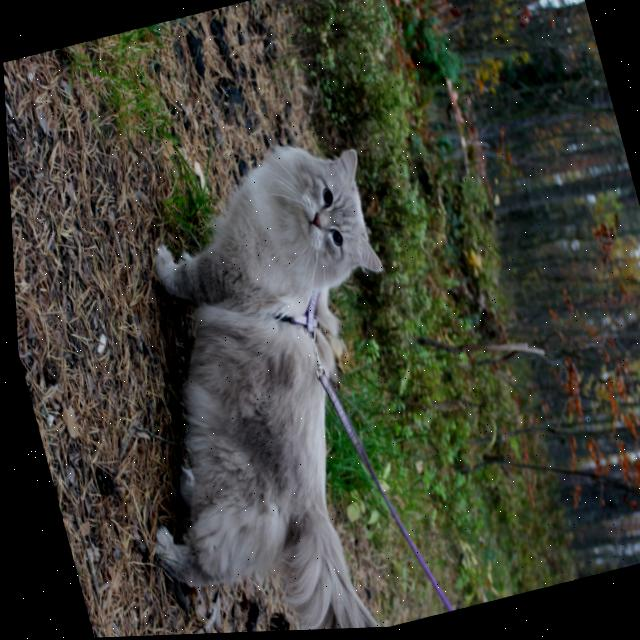Neva Masquerade: (53, 109, 476, 639)
